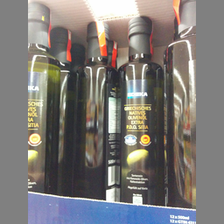oil: (118, 16, 166, 206), (70, 21, 120, 202), (27, 1, 60, 194)
